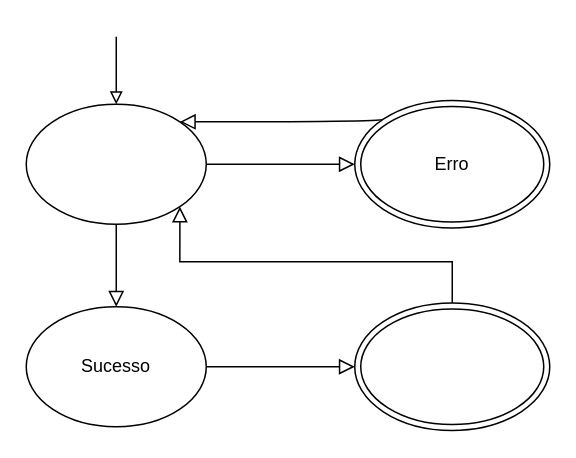
Some shapes in this 576 by 458 pixel diagram are drawn without their labels. Here are the shapes that lost their labels. From the top down, the centre of each, then its label:
At pixel 115 163: "Carregando".
At pixel 451 366: "Ocioso".
